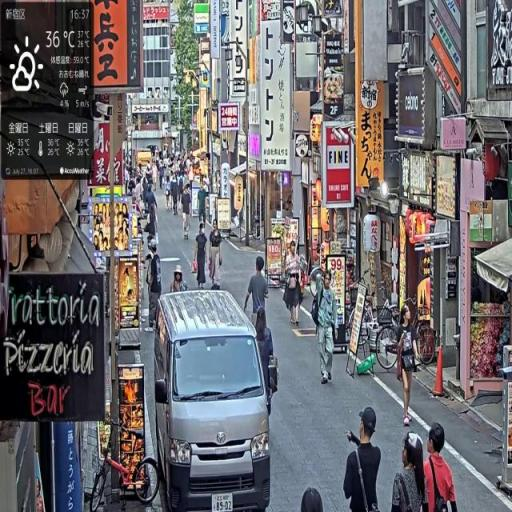person: (344, 406, 383, 512), (423, 422, 460, 512), (396, 302, 420, 430), (390, 434, 429, 512), (316, 267, 338, 386), (244, 255, 271, 329), (284, 242, 305, 330), (194, 221, 210, 290), (209, 220, 224, 289), (182, 182, 193, 242), (198, 180, 210, 228)
